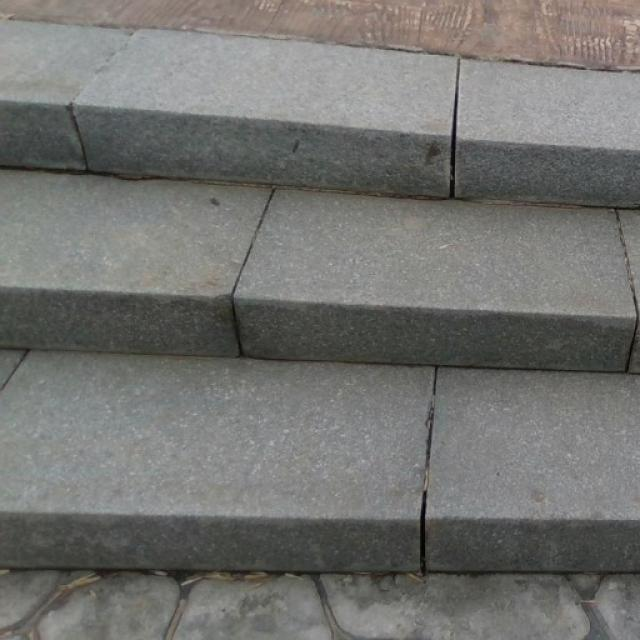Stairs: (0, 8, 639, 638)
